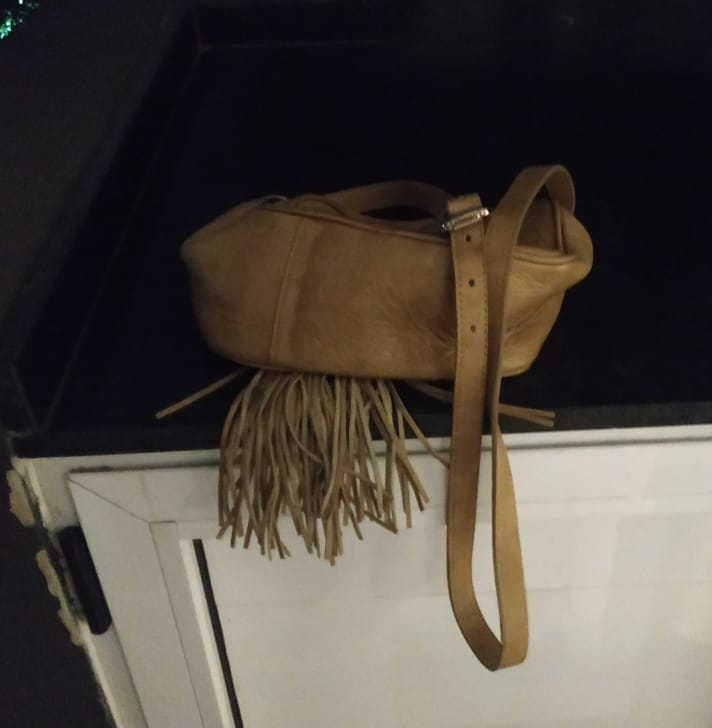cartera: (115, 89, 653, 708)
cuero: (168, 138, 602, 623)
